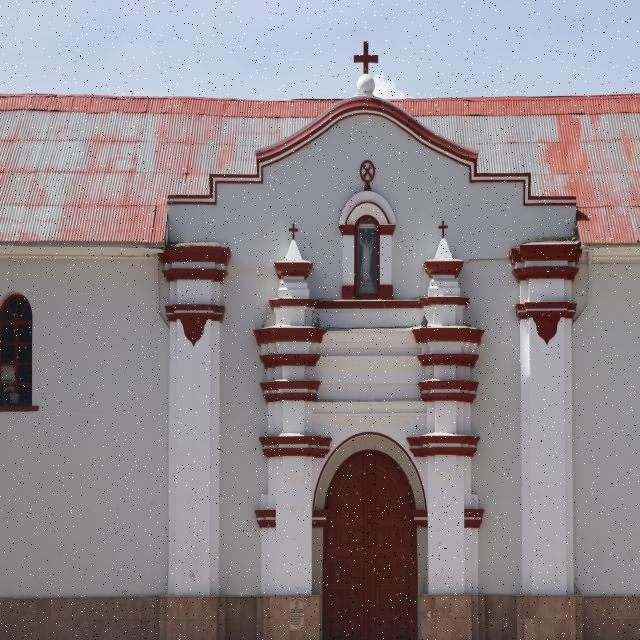PORTADA CENTRAL: (241, 178, 500, 640)
colonial-architecture-: (0, 49, 640, 640)
